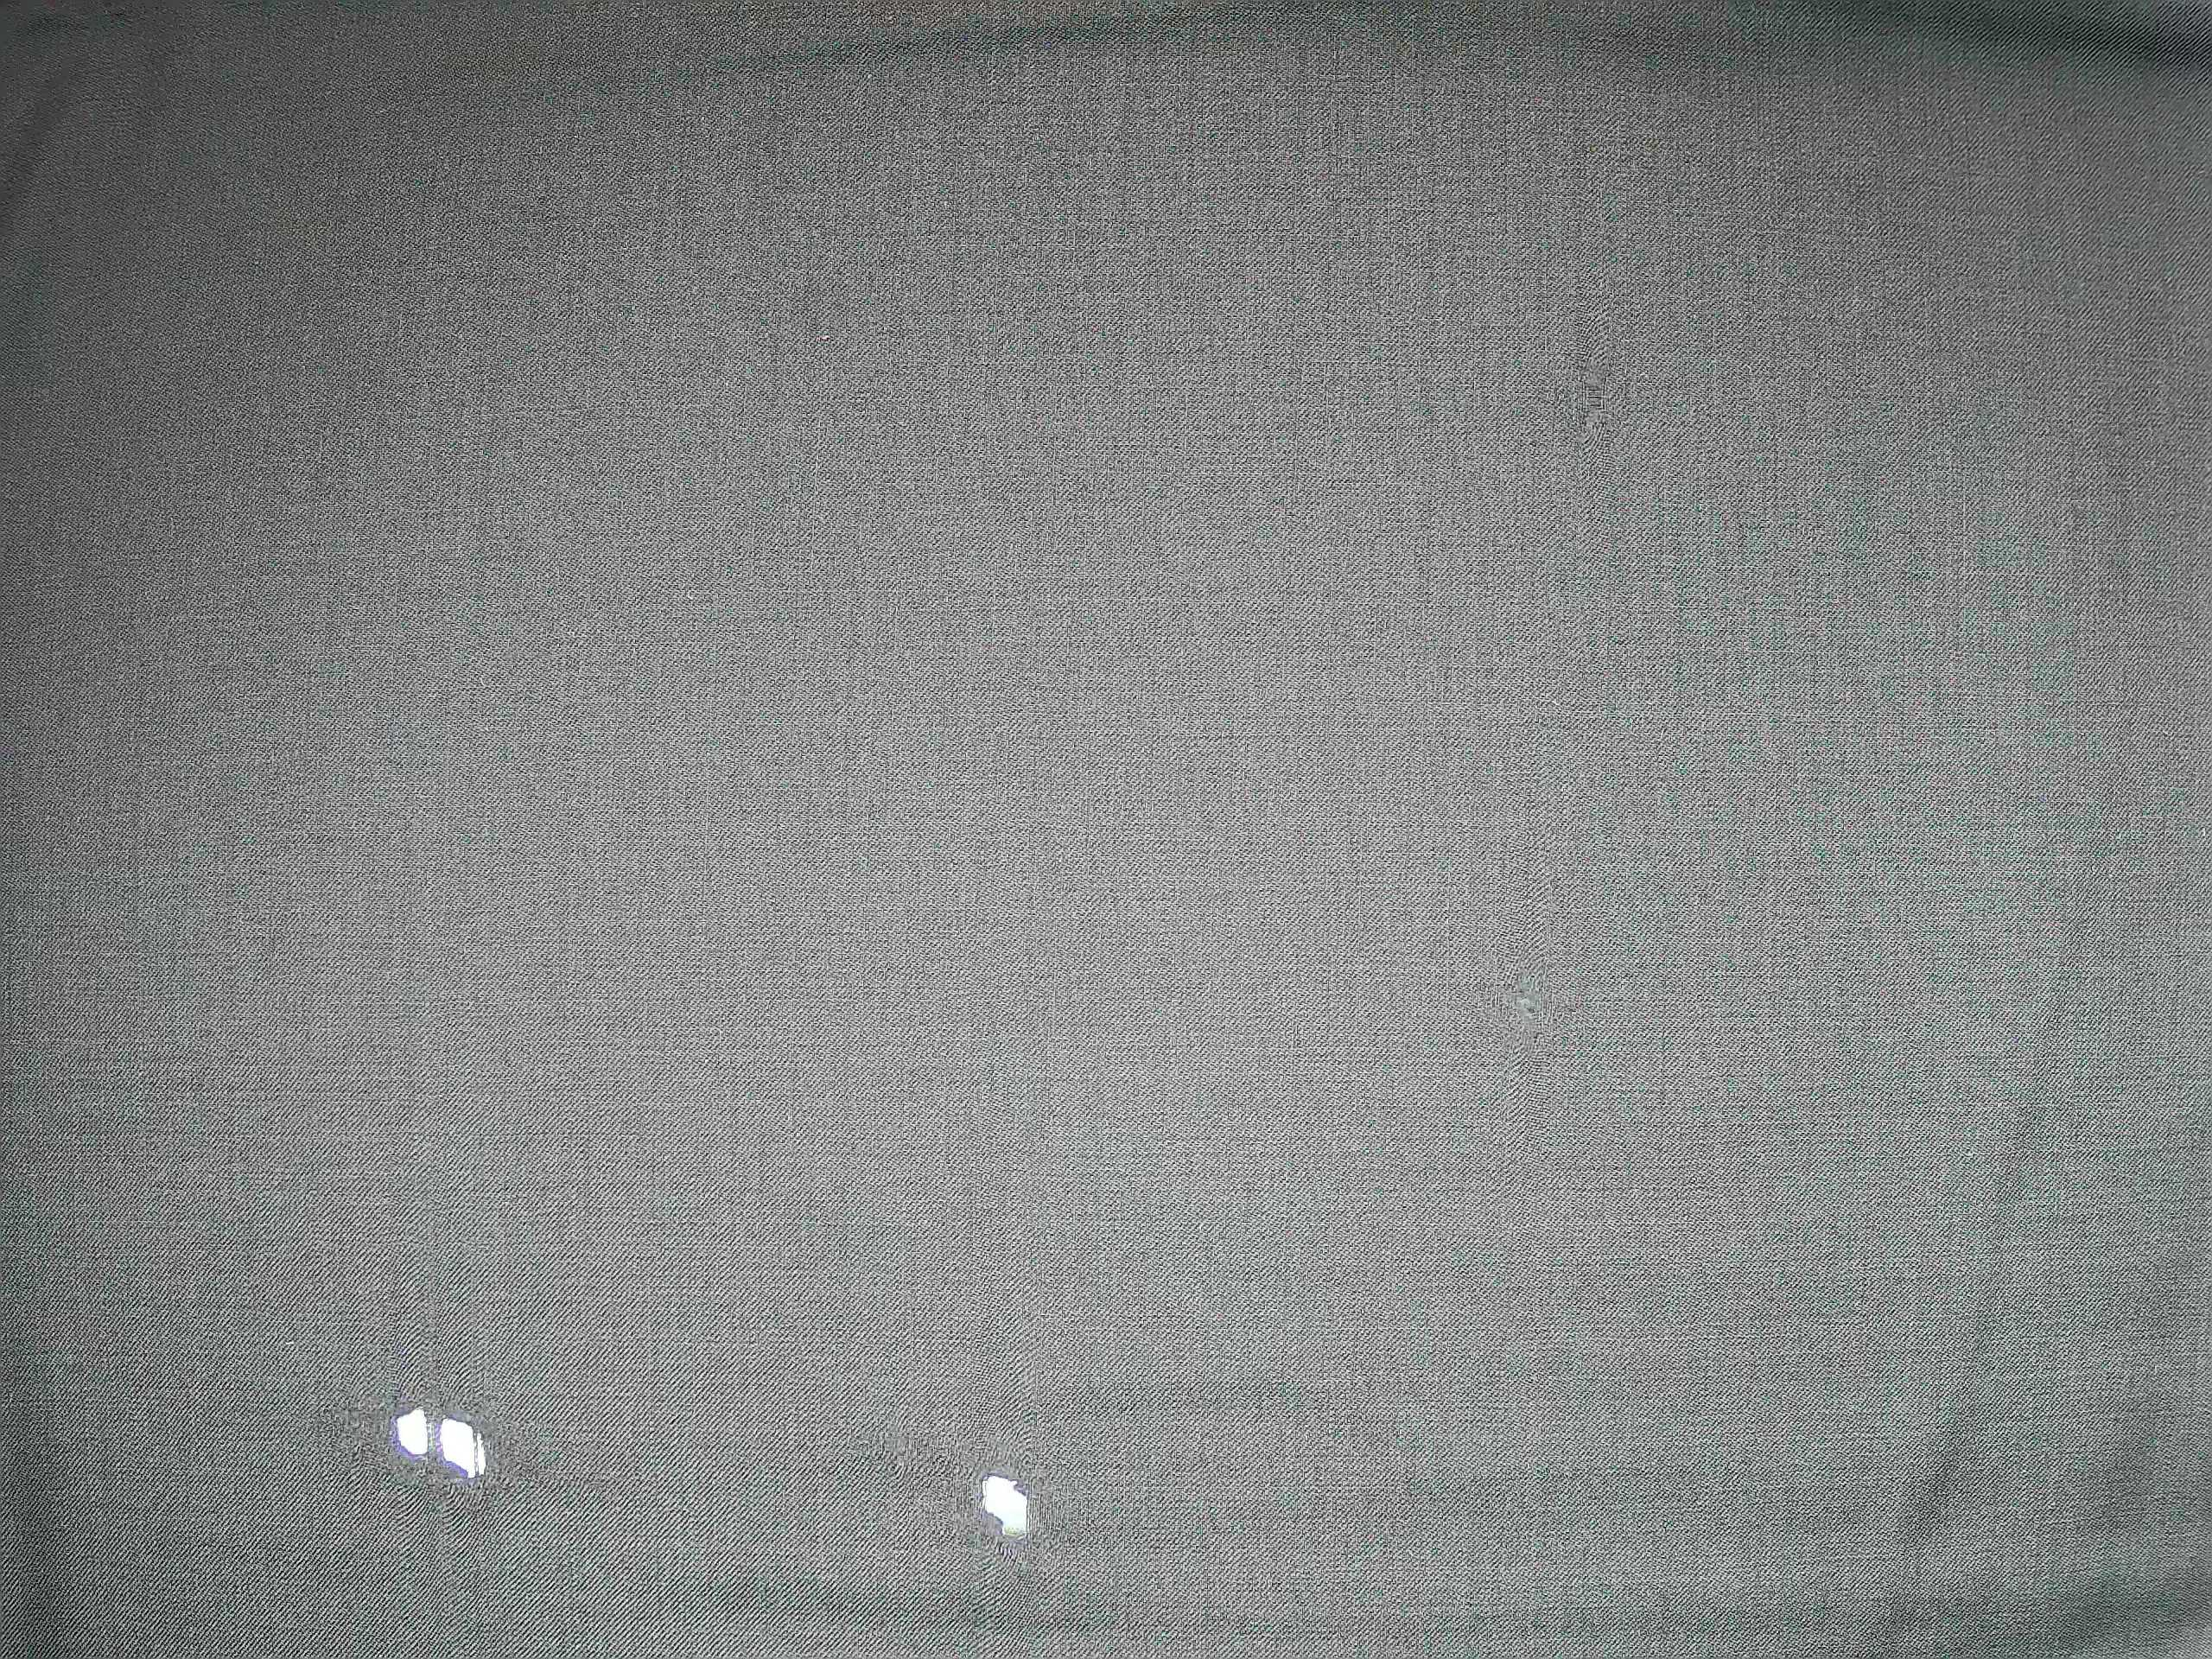rubbing-hole: (883, 1417, 1068, 1596), (357, 1375, 519, 1518), (1458, 946, 1578, 1066)
